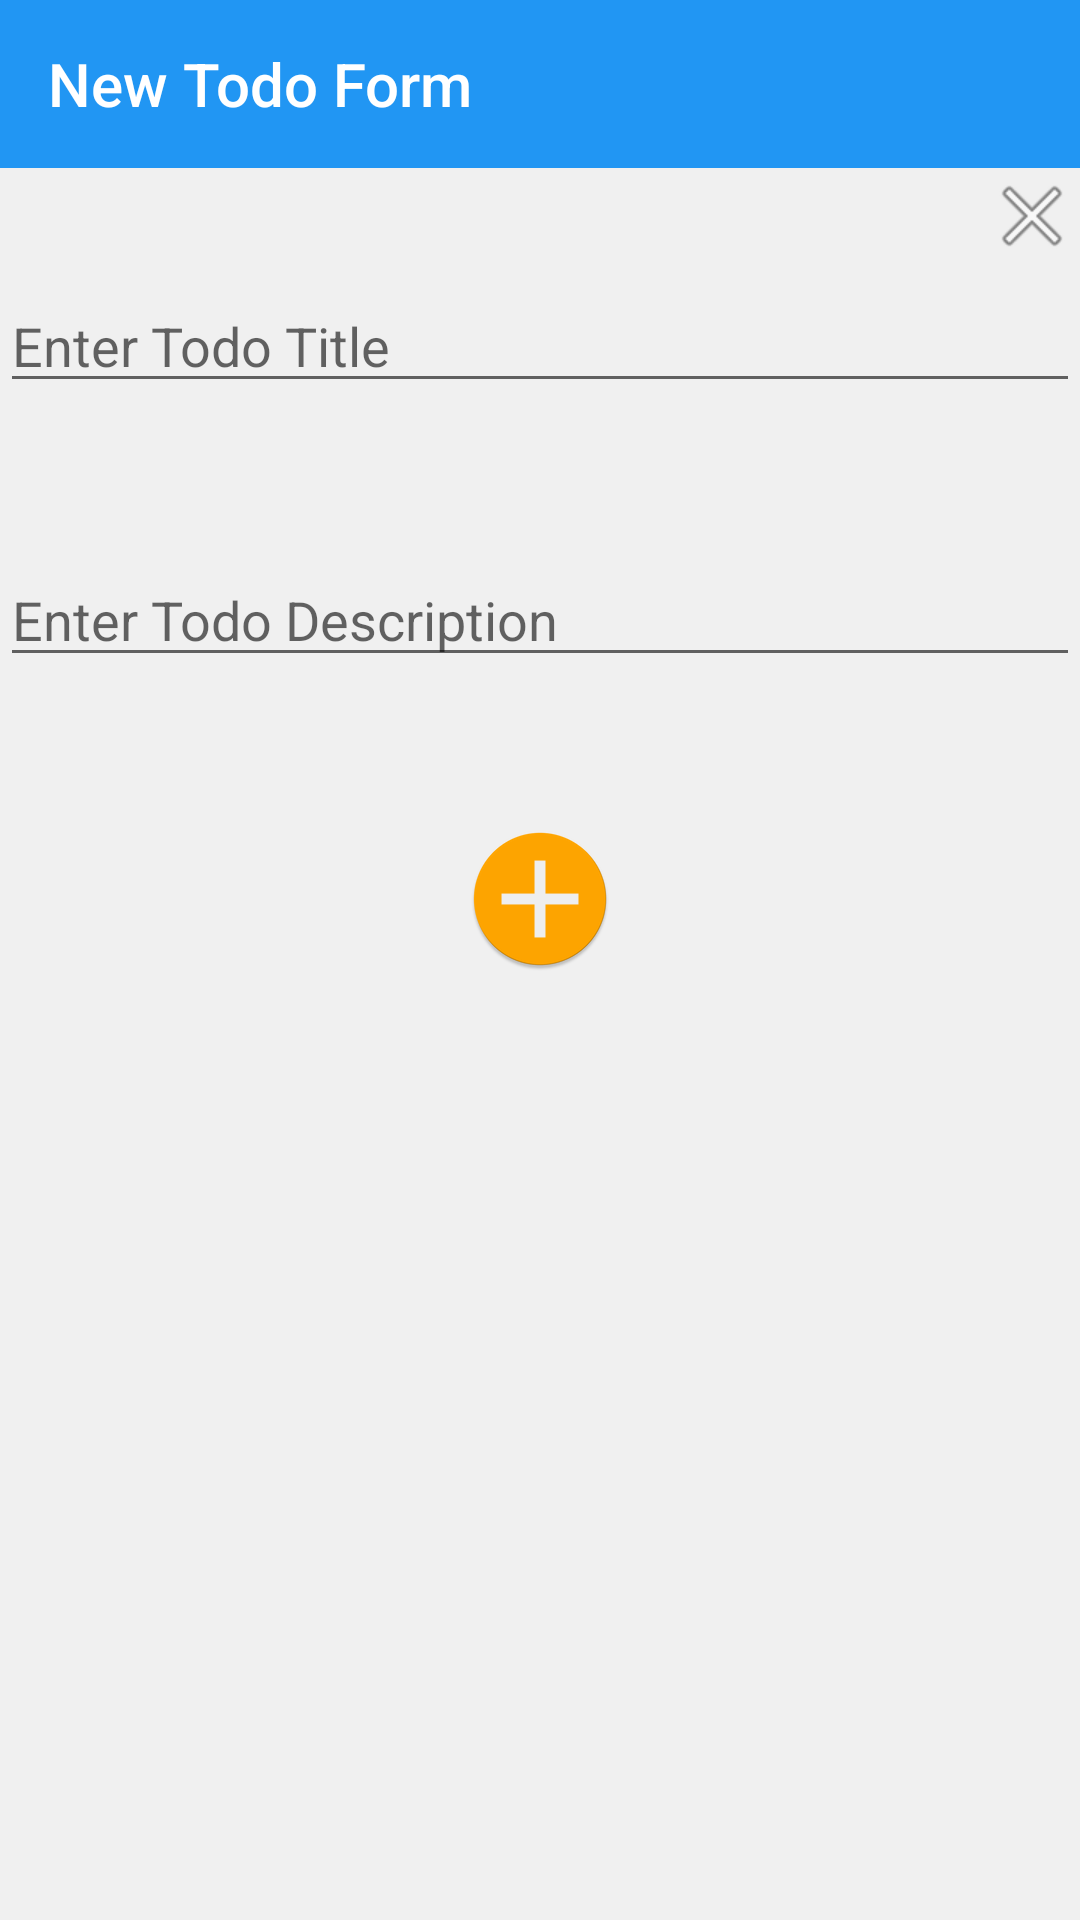

Icons on this 1080 x 1920 Android screen, each with the point to tap as (x,y):
addtask: (540,900)
close clear cancel: (1032,216)
